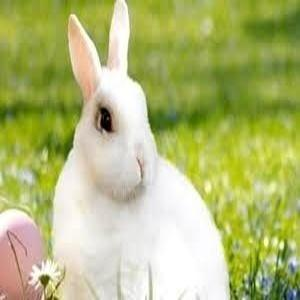rabbit: (52, 0, 222, 300)
